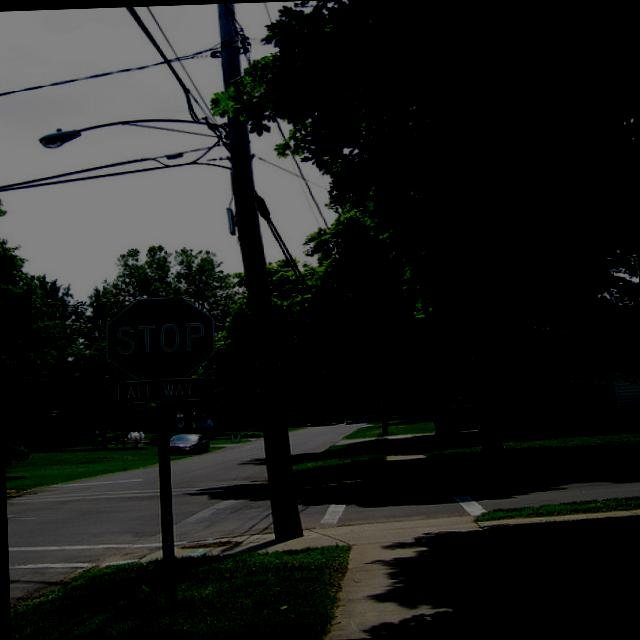Vehicle: (169, 433, 210, 455), (304, 419, 336, 426)
